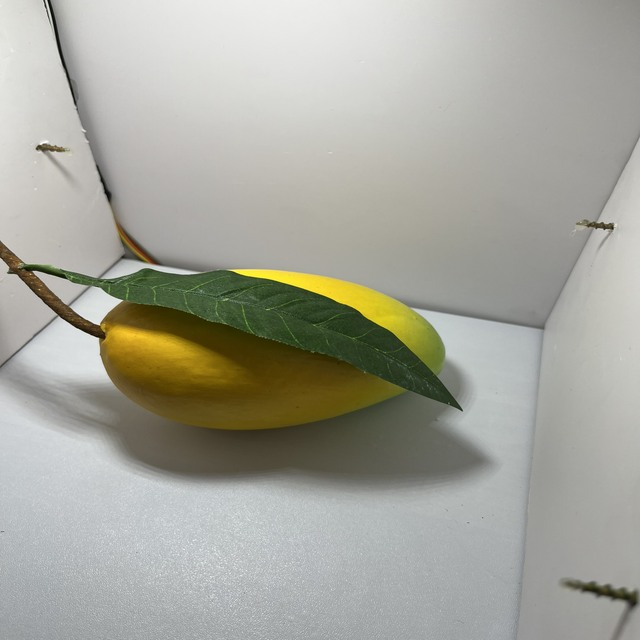Xoai: (102, 252, 452, 440)
